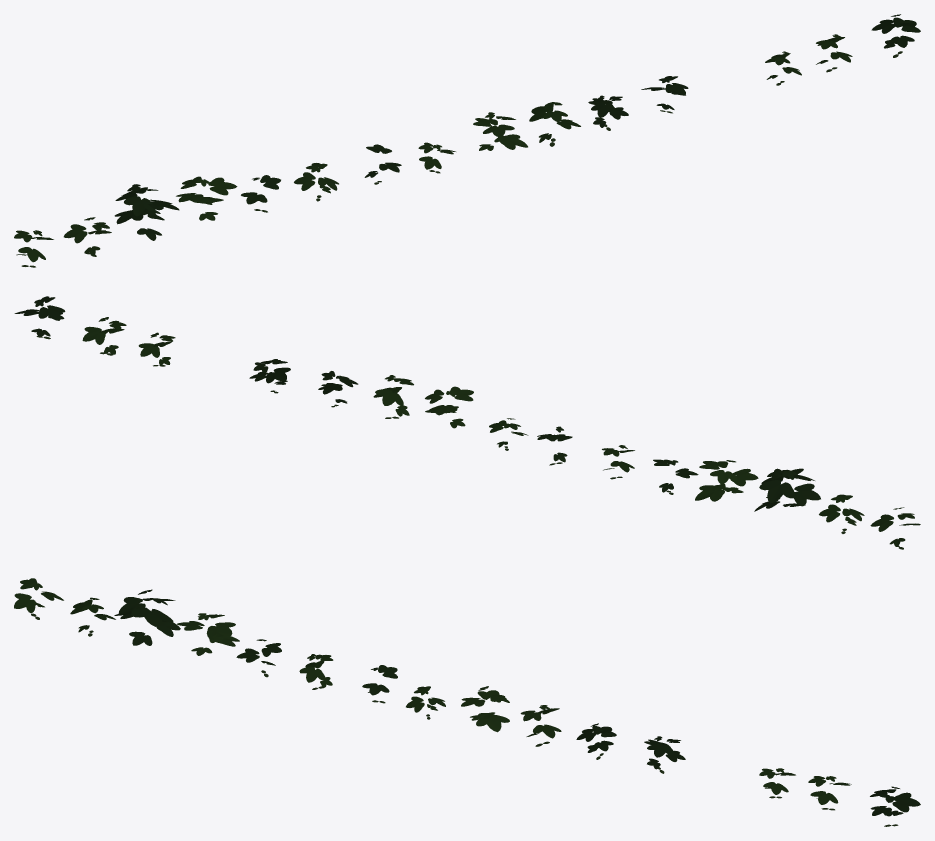
File: ROW_20_SEG1_foliage.dae
3 views of the same model, one above another, from view 1: azimuth 30°, elevation 25°; view 2: azimuth 150°, elevation 25°; view 3: azimuth 330°, elevation 25° (orthographic).
Visible parts, largest first — view 1: ROW_20_SEG1_foliage; view 2: ROW_20_SEG1_foliage; view 3: ROW_20_SEG1_foliage.
Boxes of the visible parts, x1,y1,x2,y2 form: ROW_20_SEG1_foliage: [14, 14, 920, 267]; ROW_20_SEG1_foliage: [14, 296, 920, 549]; ROW_20_SEG1_foliage: [14, 578, 920, 826].
Size of the model in its own units: 4.79 by 0.349 by 0.2701.
